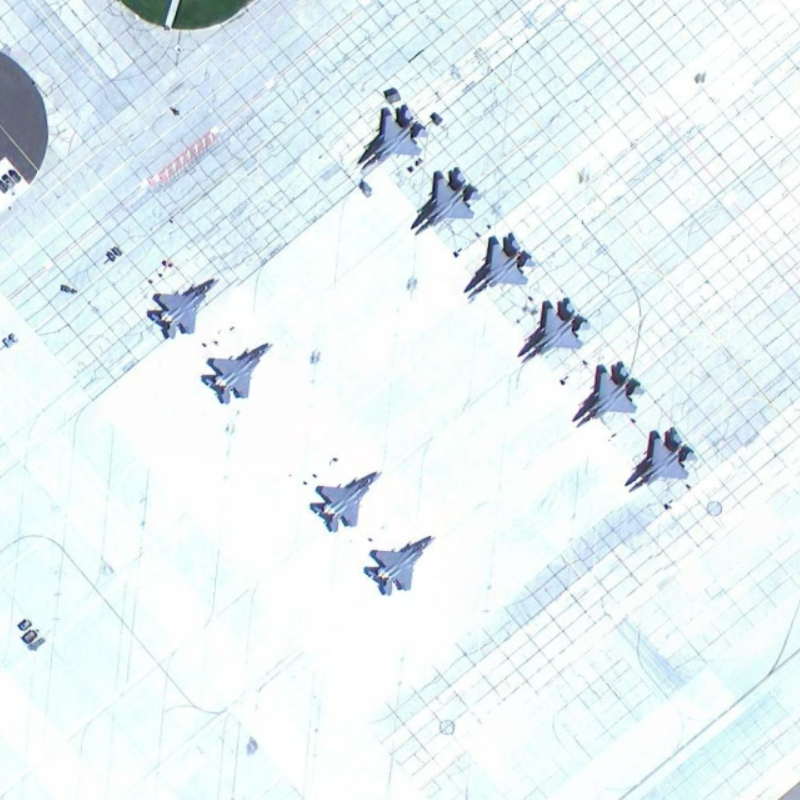A13: (455, 227, 541, 306), (406, 160, 484, 240), (570, 356, 650, 432), (619, 422, 700, 497), (350, 100, 429, 176), (199, 334, 277, 410), (306, 463, 383, 537), (144, 273, 224, 344), (515, 294, 593, 365), (360, 531, 440, 597)
